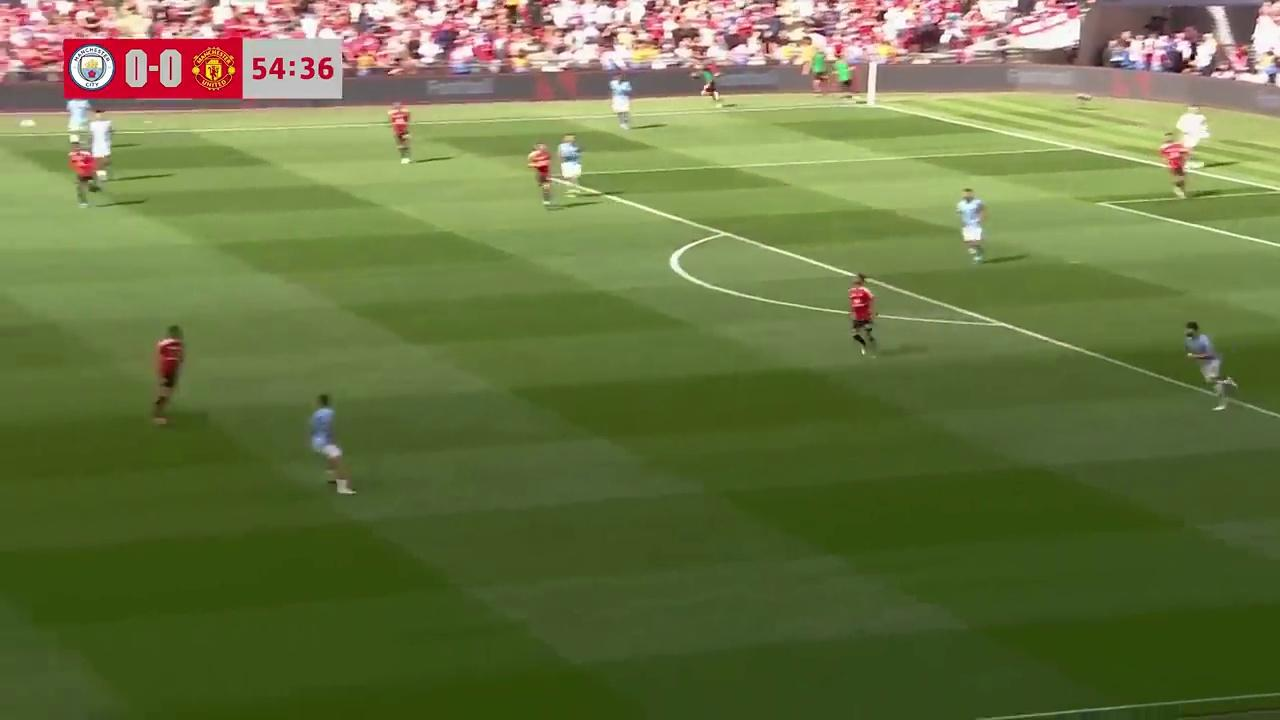player: (307, 393, 356, 495), (1183, 321, 1237, 408), (150, 326, 186, 427), (847, 273, 878, 355), (956, 188, 987, 264), (68, 144, 99, 205), (1159, 138, 1189, 199), (527, 142, 554, 205), (88, 114, 114, 173), (387, 101, 412, 161), (67, 83, 87, 151), (556, 134, 582, 186), (1178, 108, 1208, 152), (610, 76, 633, 132)
